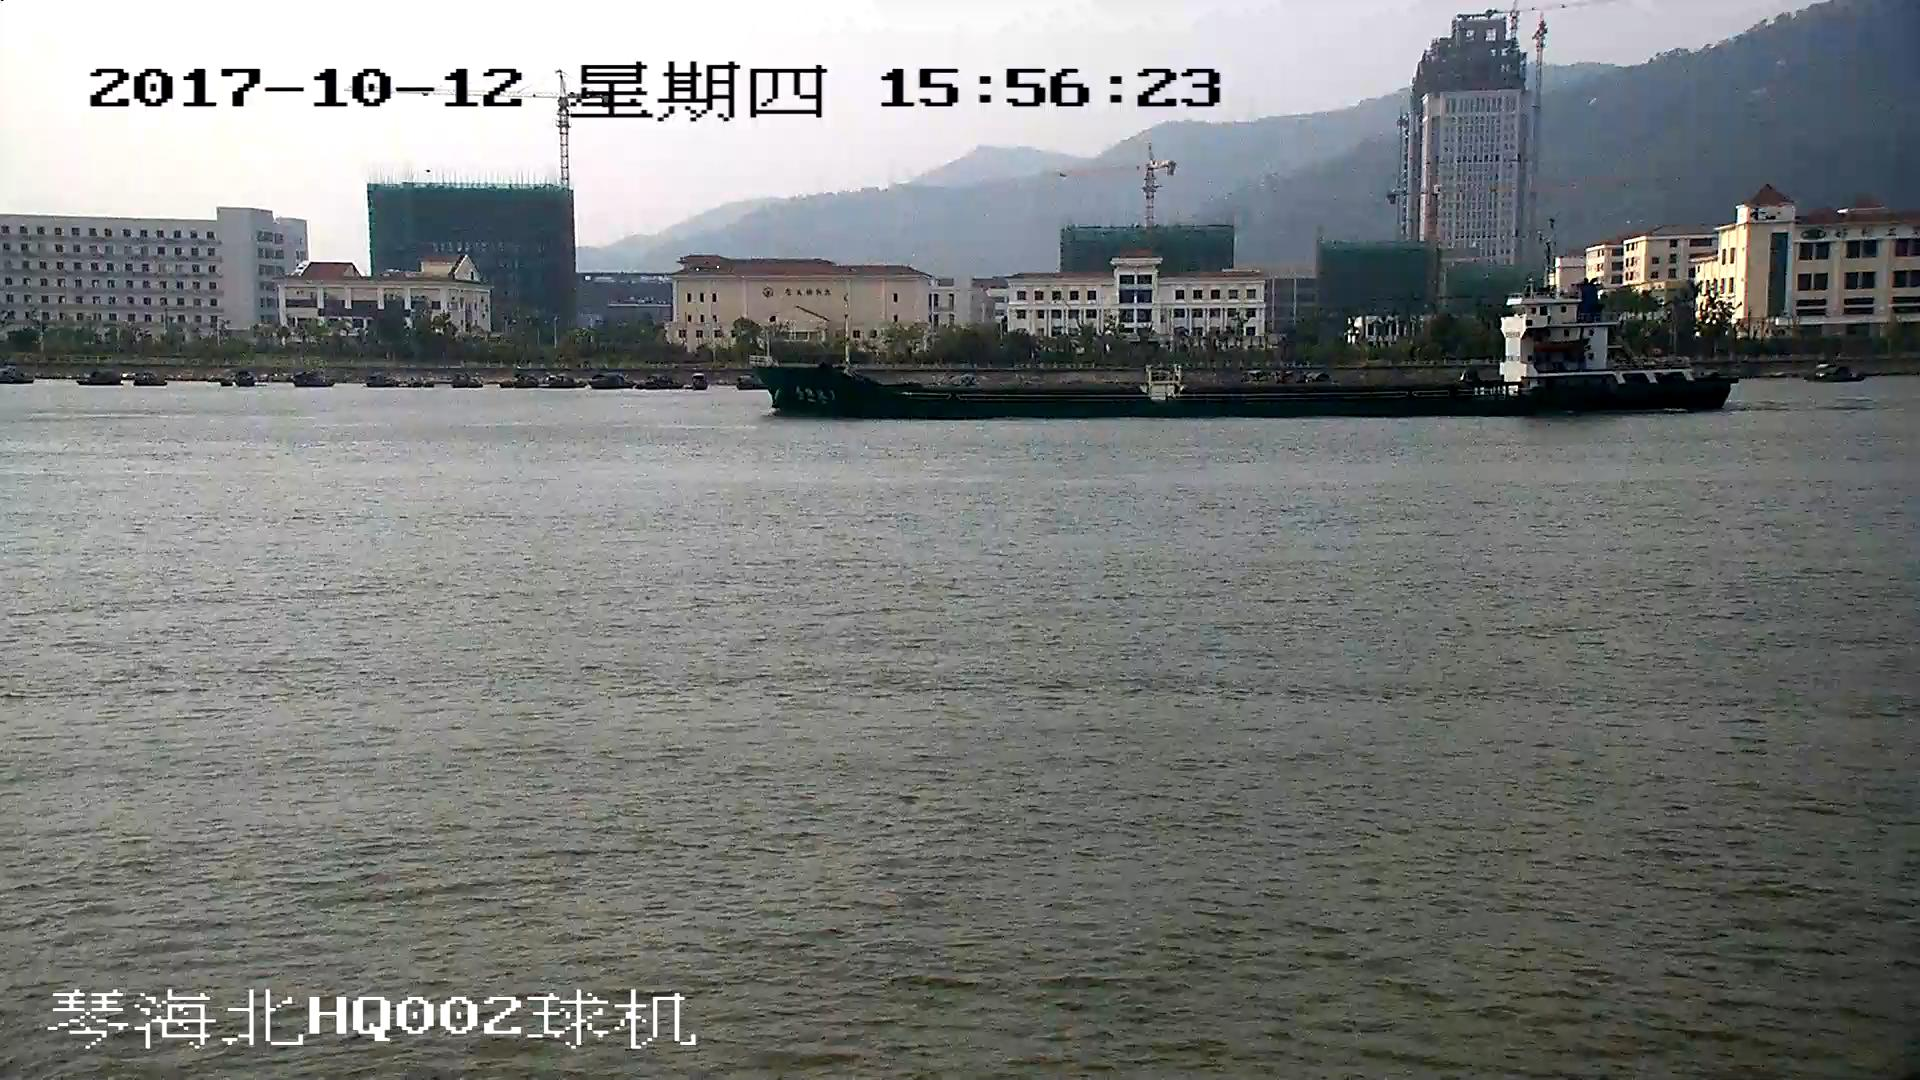general cargo ship: (759, 289, 1733, 414)
